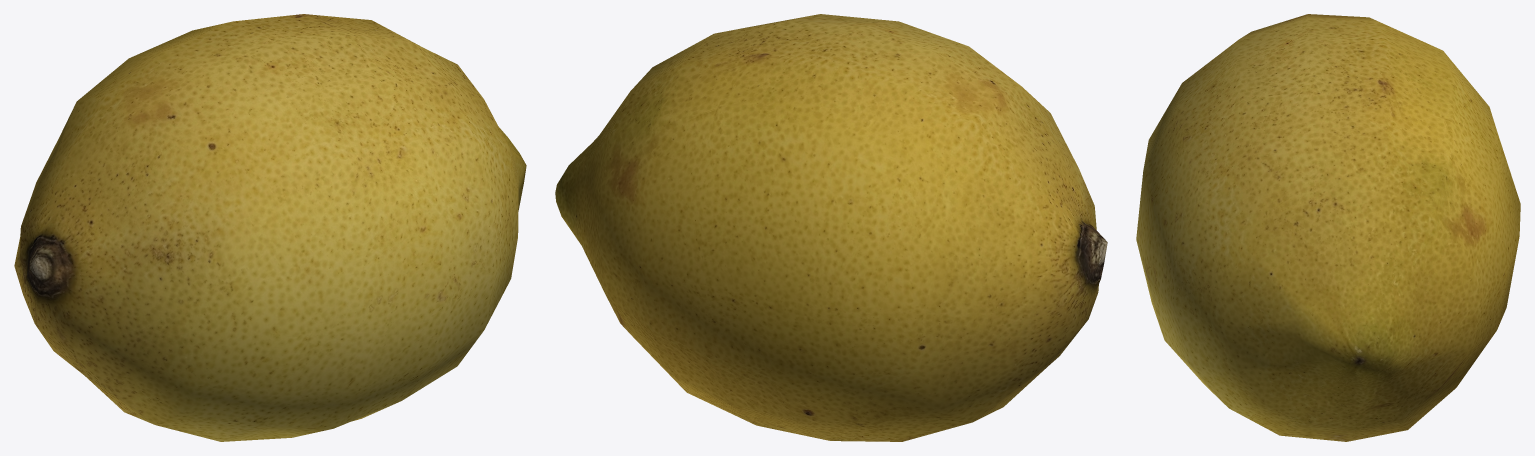
Rendered from A123_Lemon_low.fbx.
The picture shows the model from 3 angles, left to right: view 1: azimuth 30°, elevation 25°; view 2: azimuth 150°, elevation 25°; view 3: azimuth 270°, elevation 25°; orthographic projection. The views are drawn at different scales.
Parts seen in each view (by area): view 1: A123_Lemon_low; view 2: A123_Lemon_low; view 3: A123_Lemon_low.
Boxes of the visible parts, <box> form: A123_Lemon_low: <box>14,14,526,441</box>; A123_Lemon_low: <box>555,14,1107,441</box>; A123_Lemon_low: <box>1136,14,1520,441</box>.
Bounding box in the file's own units: 4.88 × 3.39 × 3.48.
1 material, 1 textured.
